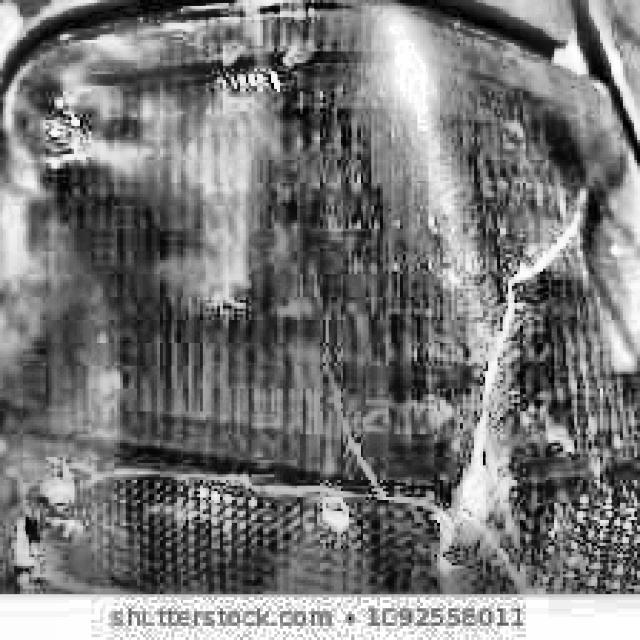tail_lamp: (430, 202, 584, 550)
